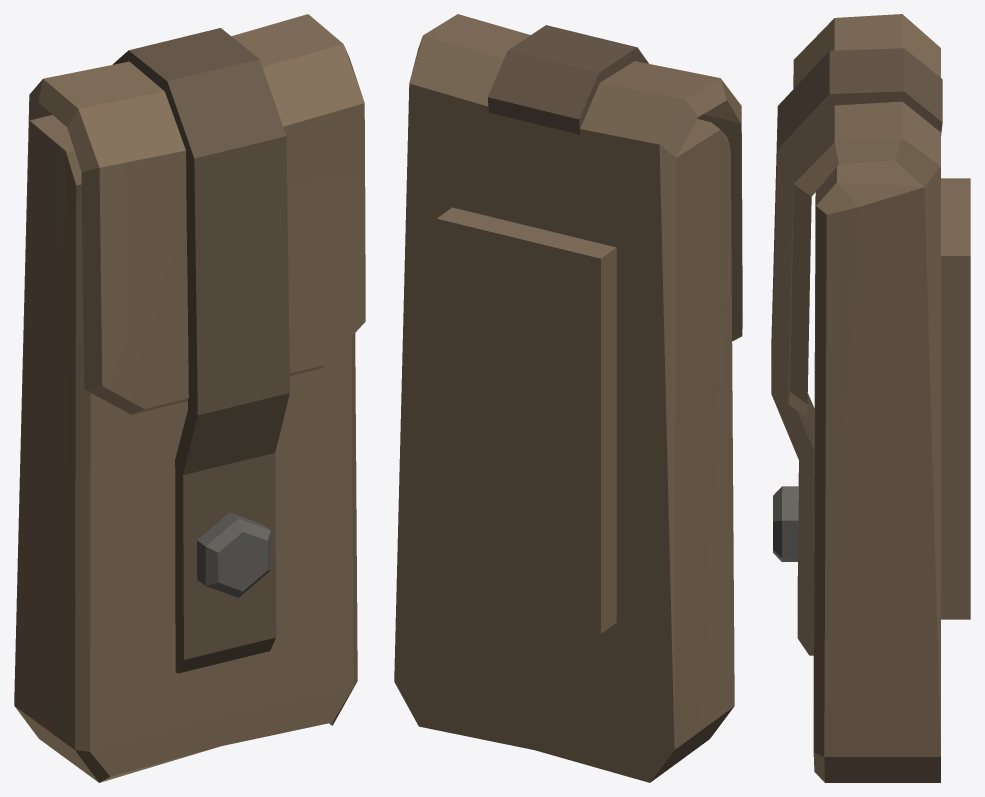
File: Pouch_05_SM.FBX
3 renders of one model, left to right at view 1: azimuth 30°, elevation 25°; view 2: azimuth 150°, elevation 25°; view 3: azimuth 270°, elevation 25°, orthographic. The views are drawn at different scales.
Parts seen in each view (by area): view 1: Pouch_05_SM; view 2: Pouch_05_SM; view 3: Pouch_05_SM.
Boxes of the visible parts, x1,y1,x2,y2 form: Pouch_05_SM: [14, 14, 365, 782]; Pouch_05_SM: [394, 14, 742, 782]; Pouch_05_SM: [771, 14, 970, 782].
Size of what is drawn, in the model's own units: 7.44 by 4.73 by 17.21.
